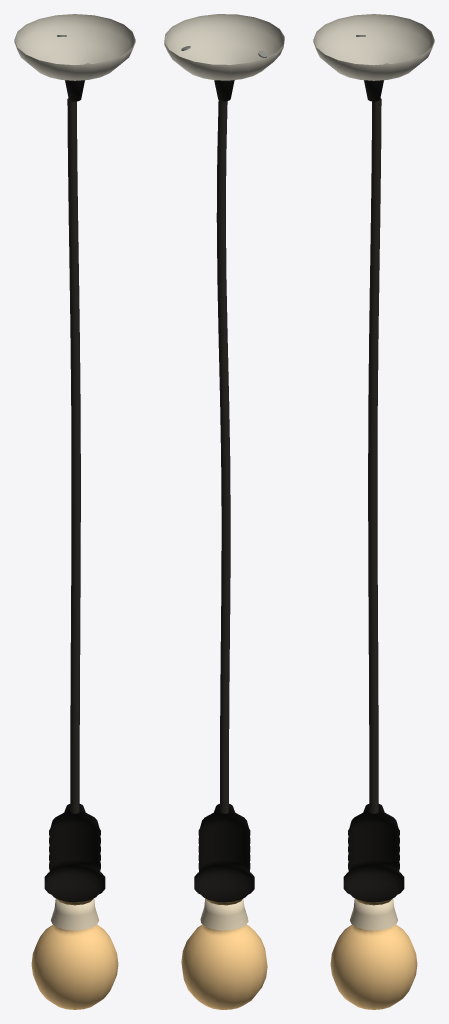
The model's file is hanging_bulb.glb.
3 renders of one model, left to right at view 1: azimuth 90°, elevation 25°; view 2: azimuth 150°, elevation 25°; view 3: azimuth 270°, elevation 25°, orthographic.
Visible parts, largest first — view 1: gluehbirne; view 2: gluehbirne; view 3: gluehbirne.
Part boxes in pixels (x1=…): gluehbirne: x1=14, y1=14, x2=135, y2=1009; gluehbirne: x1=164, y1=14, x2=284, y2=1009; gluehbirne: x1=313, y1=14, x2=434, y2=1009.
Bounding box in the file's own units: 0.085 × 0.75 × 0.085.
